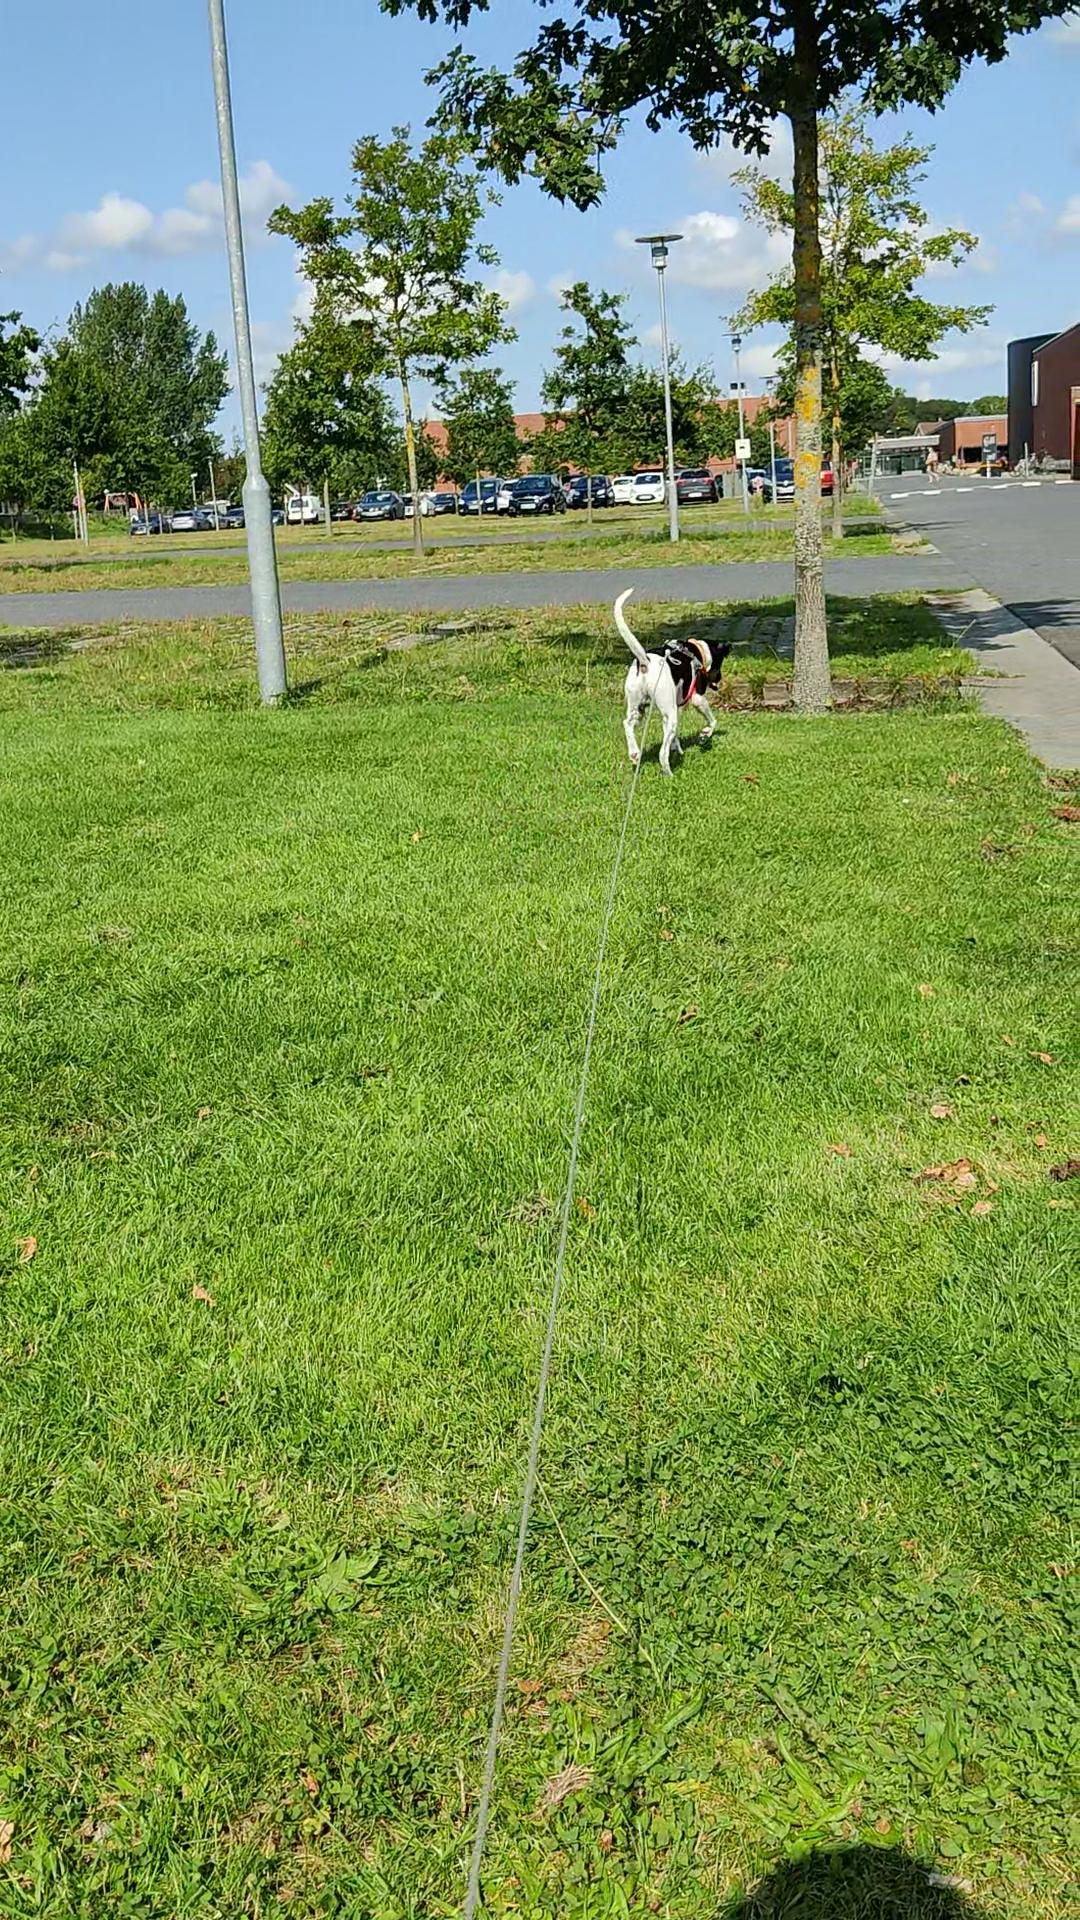Dog: (611, 585, 735, 777)
